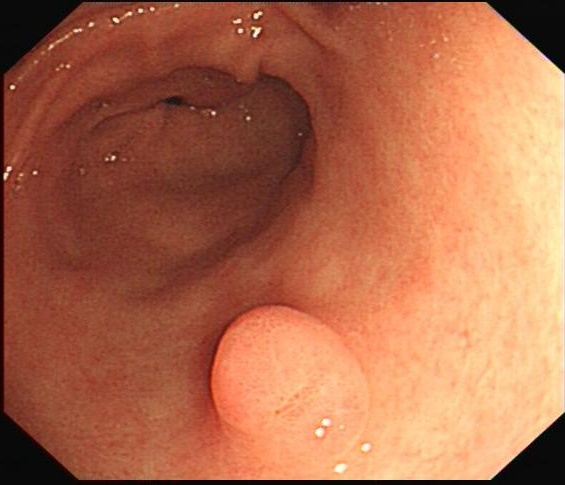Polyp: (208, 292, 366, 441)
